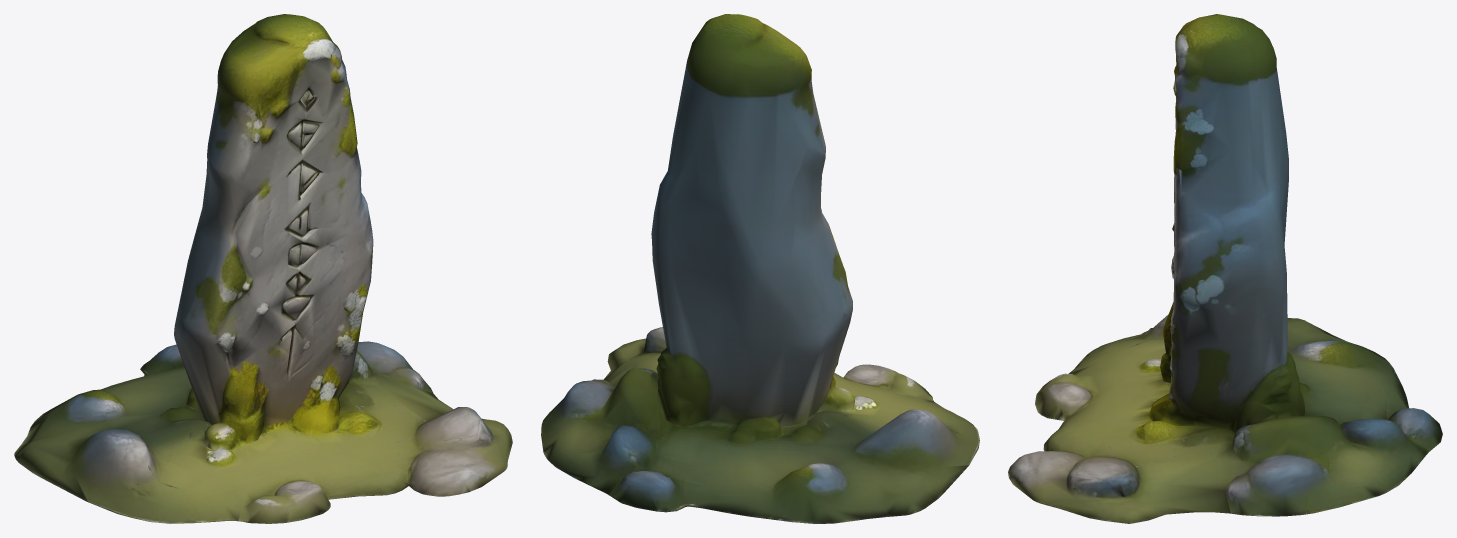
Rendered from StandingStone.opt.glb.
The picture shows the model from 3 angles, left to right: view 1: azimuth 30°, elevation 25°; view 2: azimuth 150°, elevation 25°; view 3: azimuth 270°, elevation 25°; orthographic projection. The views are drawn at different scales.
Visible parts, largest first — view 1: node_0; view 2: node_0; view 3: node_0.
Boxes of the visible parts, x1=… form: node_0: x1=14, y1=14, x2=512, y2=523; node_0: x1=541, y1=14, x2=979, y2=523; node_0: x1=1008, y1=14, x2=1442, y2=523.
Size of the model in its own units: 0.8043 by 0.7918 by 0.7436.
1 material, 1 textured.
